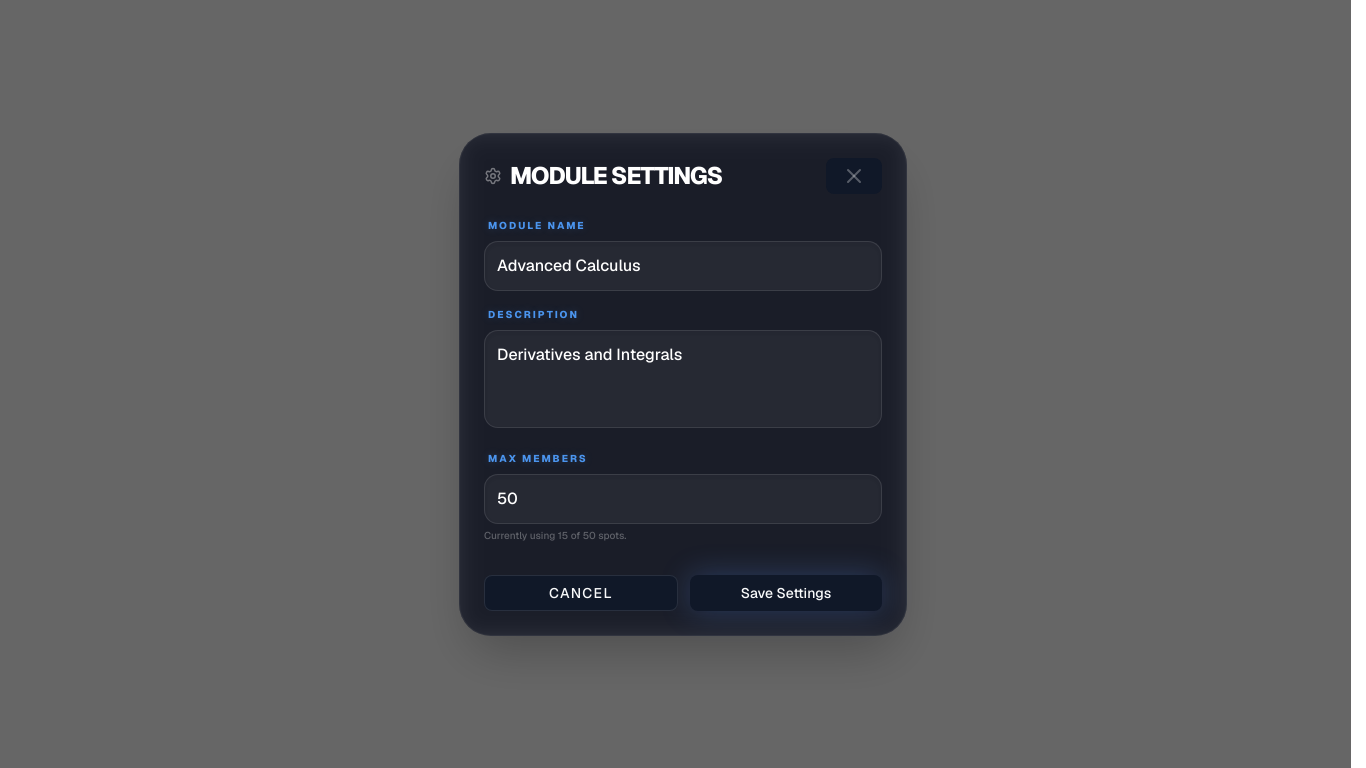
Test: ModuleSettingsModal Component › displays an error message and prevents closure if the API rejects the update
Click the button "Save Settings".
click(786, 592)  # box left=690, top=574, right=882, bottom=610
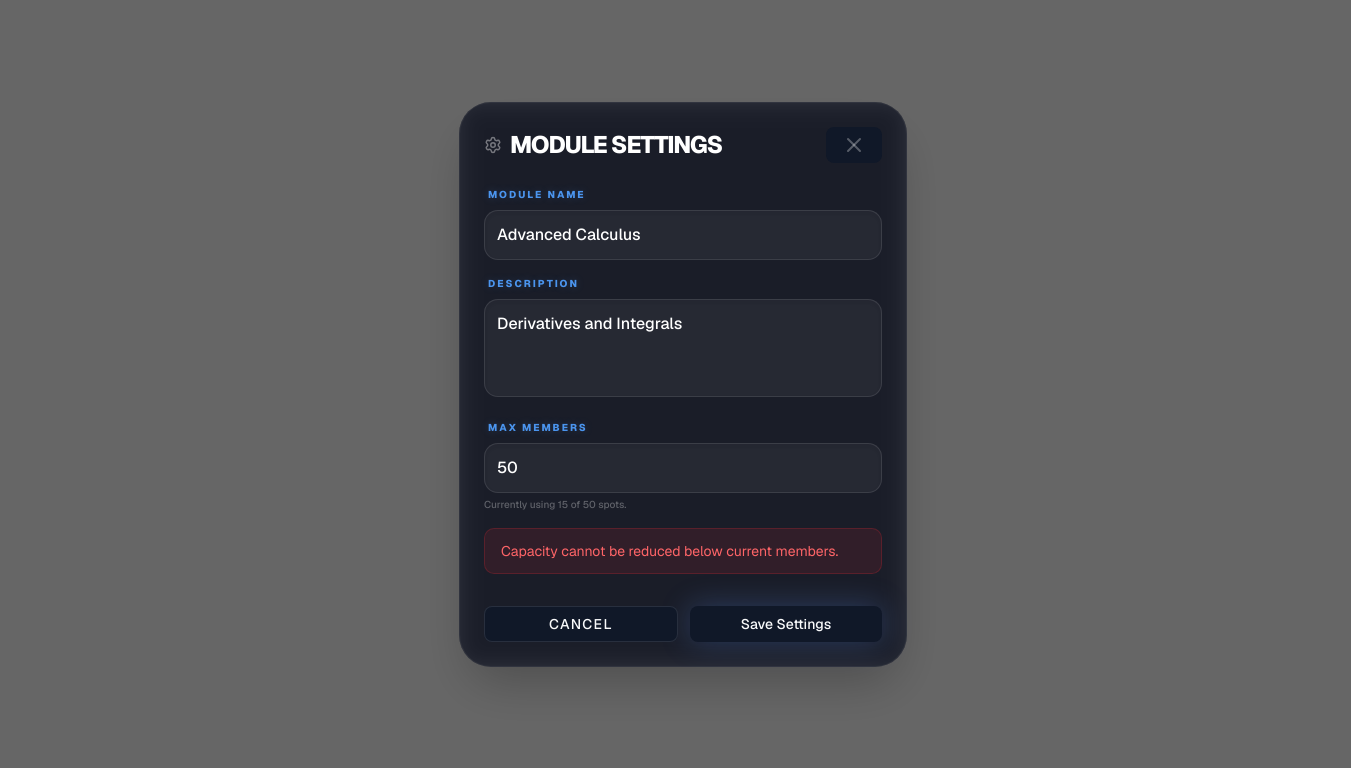
Expected: the text "Capacity cannot be reduced below current members." is shown, left=484, top=528, right=882, bottom=574
